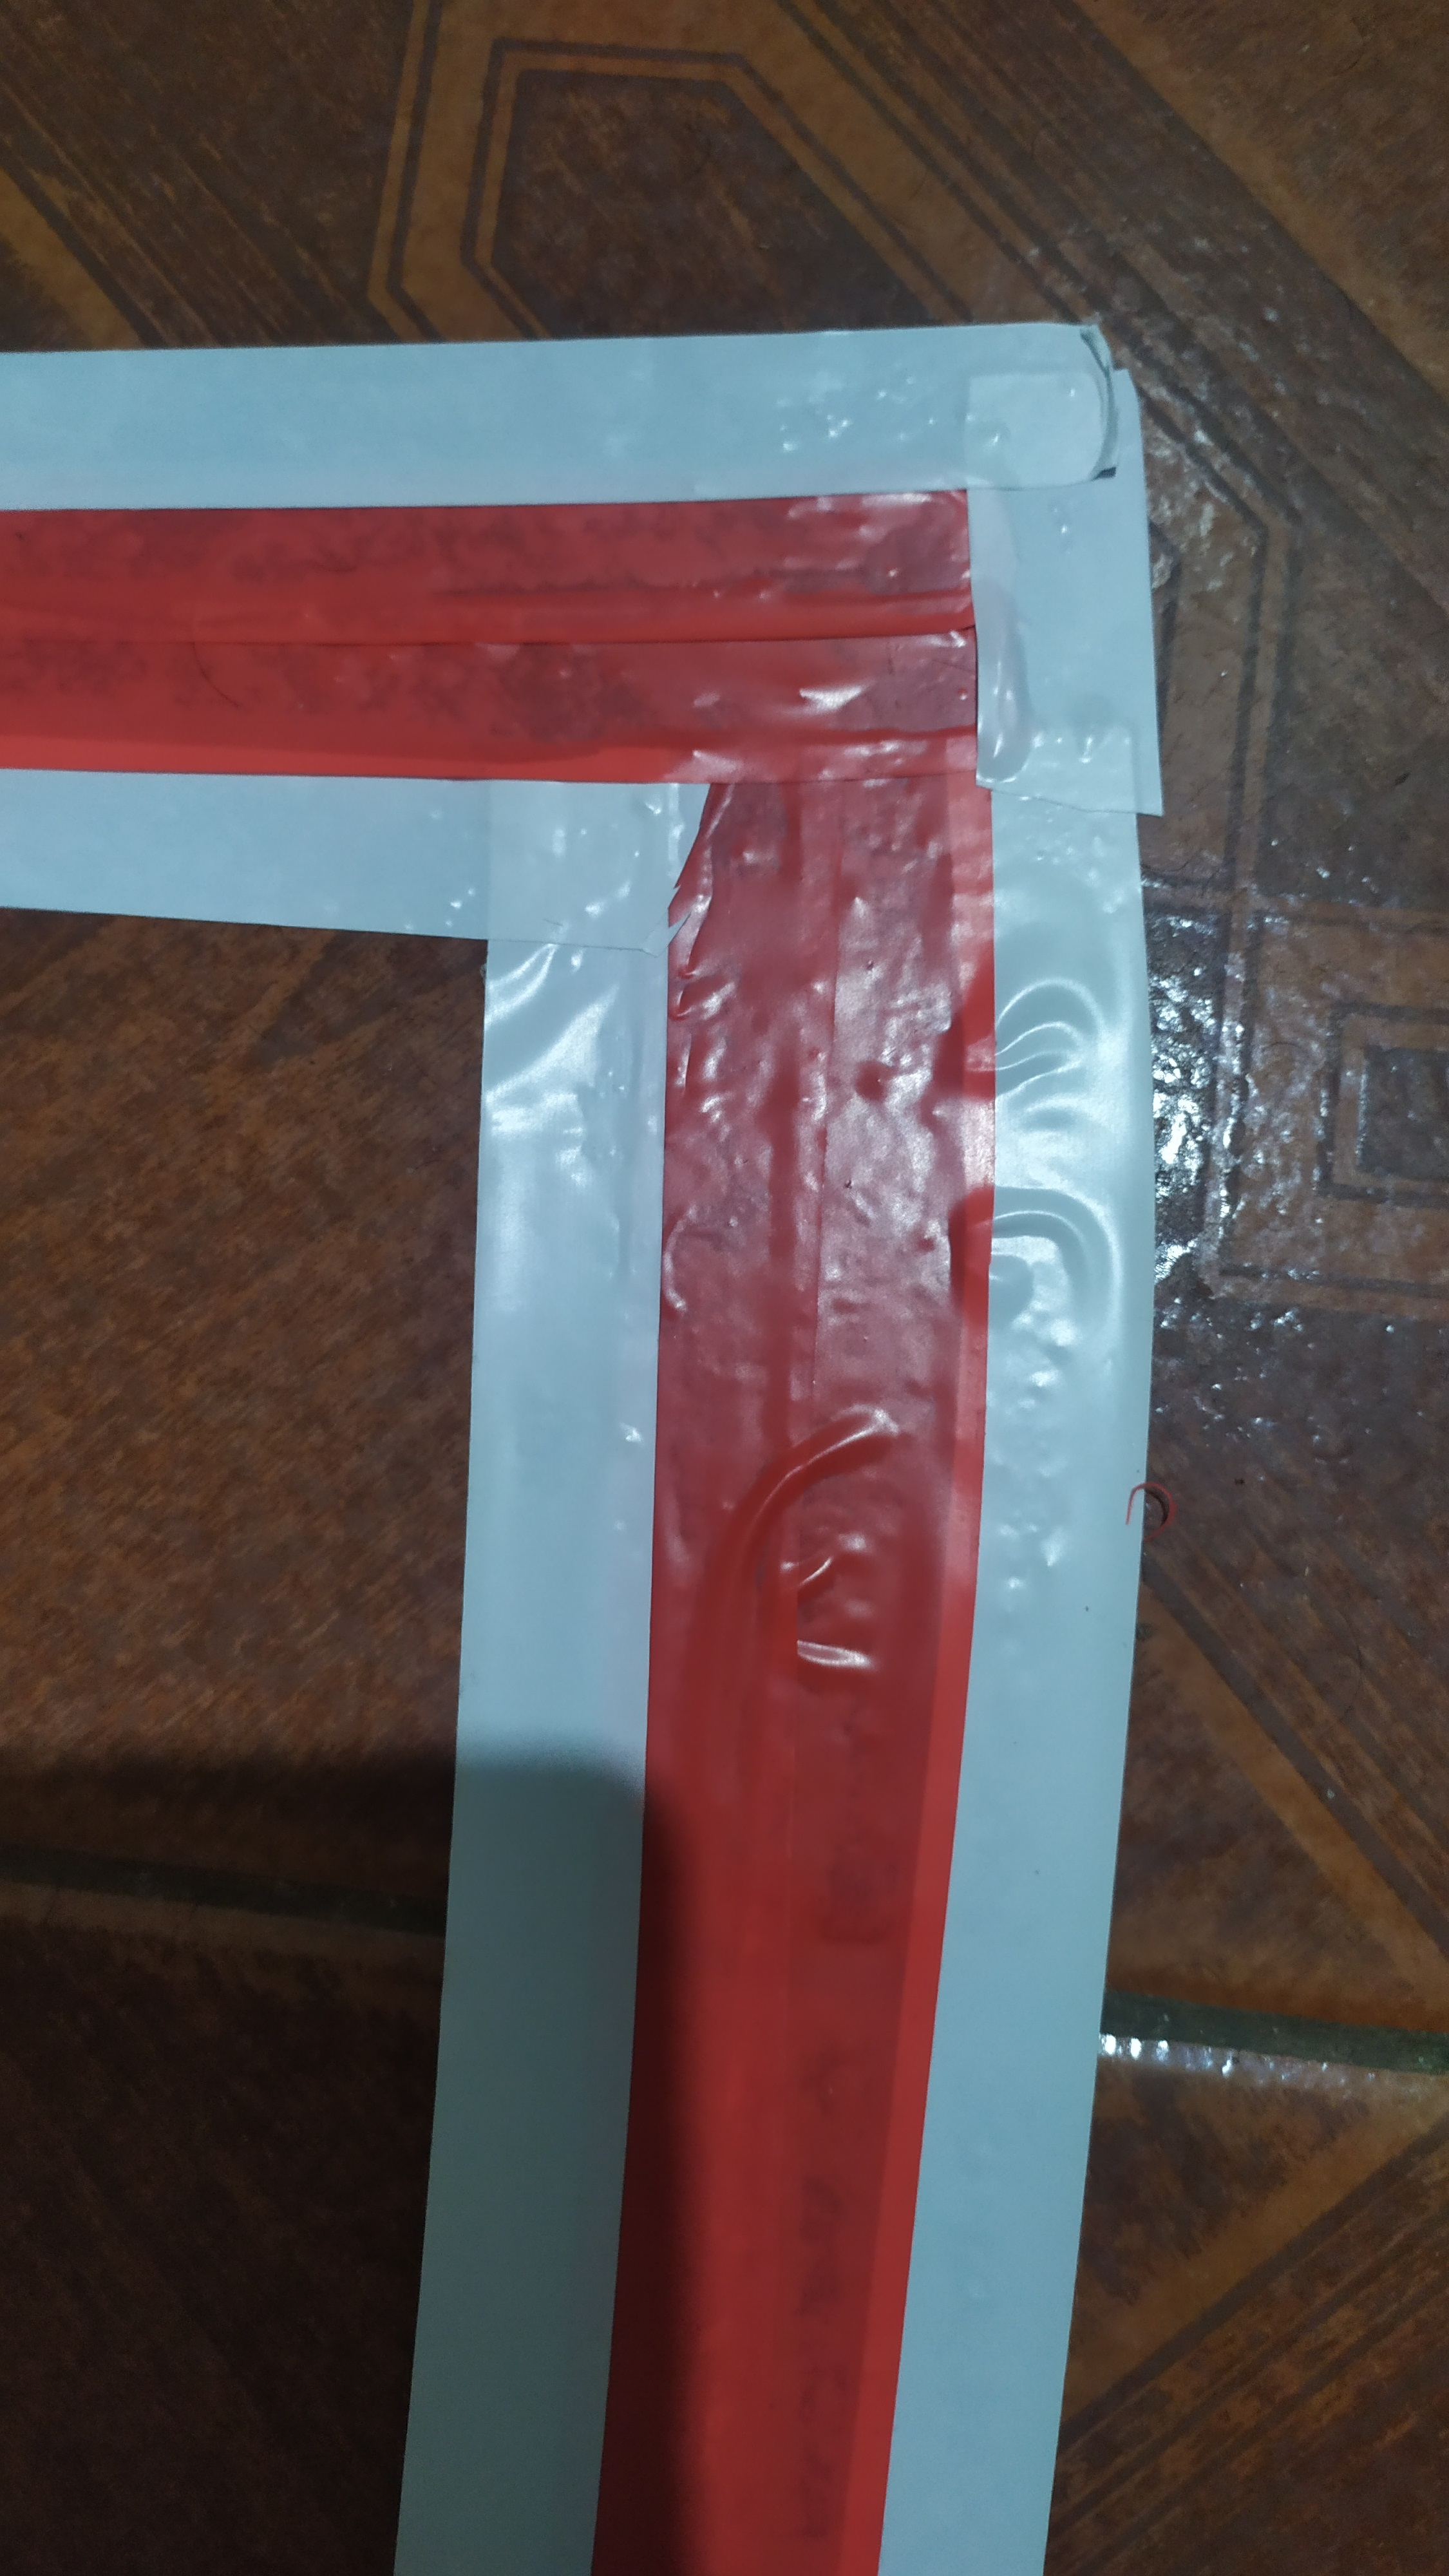faixa_esquerda: (9, 287, 1161, 2576)
